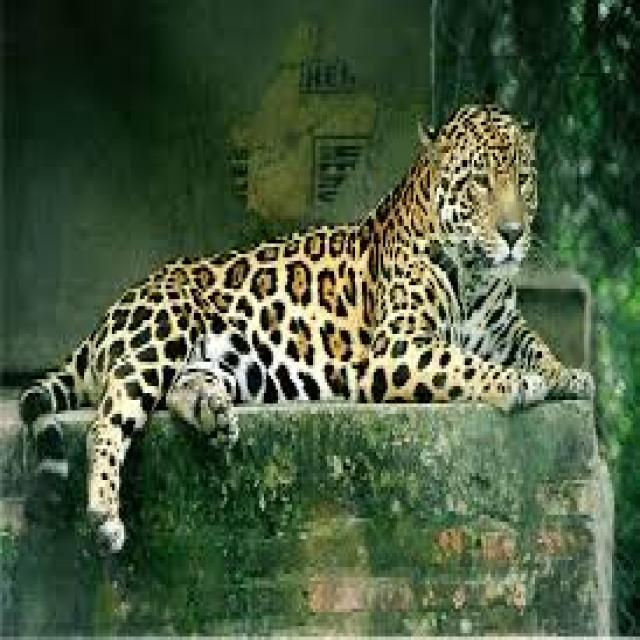Jaguar: (77, 108, 554, 508)
